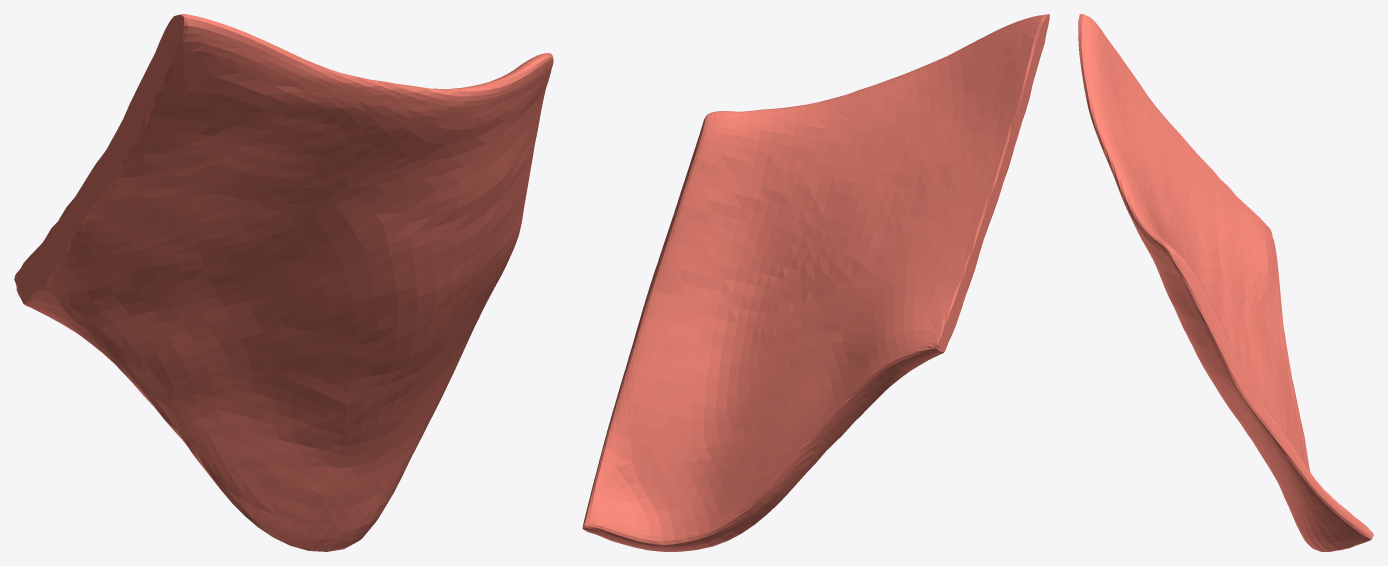
The model's file is M_superficial_pectoral_major.glb.
3 views of the same model, side by side, from view 1: azimuth 30°, elevation 25°; view 2: azimuth 150°, elevation 25°; view 3: azimuth 270°, elevation 25° (orthographic). The views are drawn at different scales.
Visible parts, largest first — view 1: M_superficial_pectoral_major; view 2: M_superficial_pectoral_major; view 3: M_superficial_pectoral_major.
Boxes of the visible parts, x1=… form: M_superficial_pectoral_major: x1=14, y1=14, x2=553, y2=551; M_superficial_pectoral_major: x1=582, y1=14, x2=1049, y2=551; M_superficial_pectoral_major: x1=1078, y1=14, x2=1373, y2=551.
Bounding box in the file's own units: 0.00181 × 0.00279 × 0.00174.
